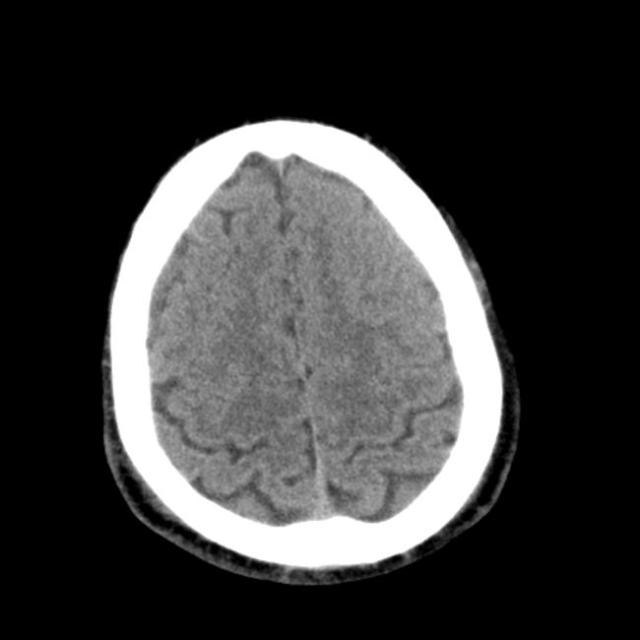lesion: (99, 114, 522, 585)
